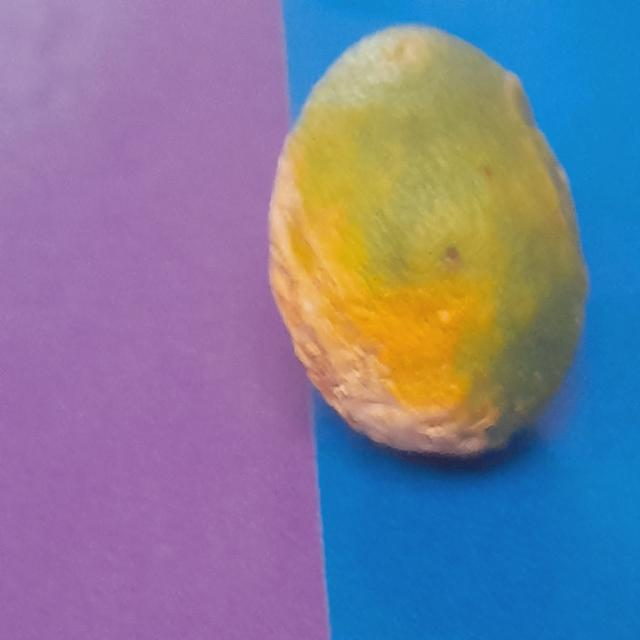thrips: (283, 19, 578, 450)
